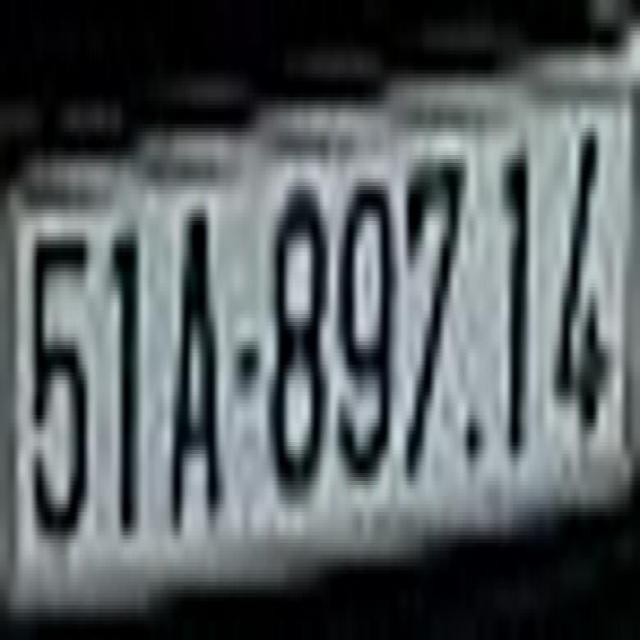1: (494, 124, 528, 473), (109, 198, 140, 554)
4: (556, 108, 620, 466)
5: (31, 221, 89, 555)
7: (402, 151, 466, 485)
8: (268, 171, 328, 504)
9: (332, 170, 392, 492)
A: (169, 190, 225, 535)
